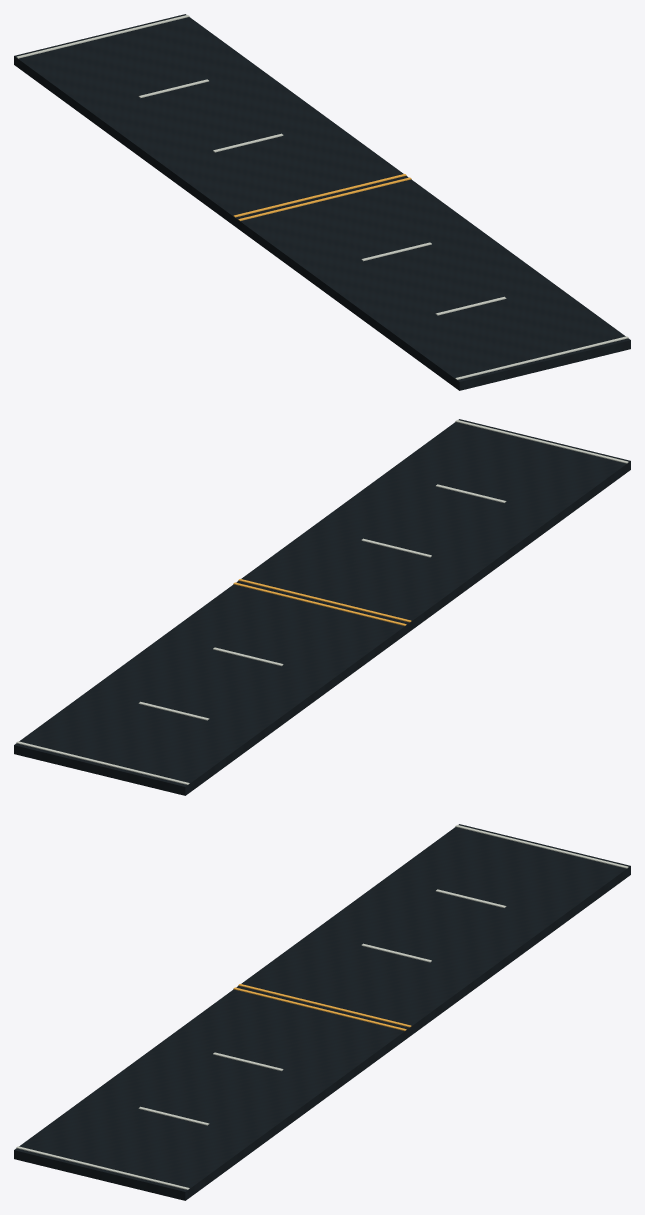
File: Road_6Lane_4m.glb
The picture shows the model from 3 angles, top to bottom: view 1: azimuth 30°, elevation 25°; view 2: azimuth 150°, elevation 25°; view 3: azimuth 330°, elevation 25°; orthographic projection.
Visible parts, largest first — view 1: Road_6Lane_4m_Lane_01, Road_6Lane_4m_Lane_02, Road_6Lane_4m_Lane_05, Road_6Lane_4m_Lane_04, Road_6Lane_4m_Lane_03, Road_6Lane_4m_Lane_06, Road_6Lane_4m_LaneMarkings, Road_6Lane_4m_EdgeMarkings; view 2: Road_6Lane_4m_Lane_06, Road_6Lane_4m_Lane_05, Road_6Lane_4m_Lane_02, Road_6Lane_4m_Lane_03, Road_6Lane_4m_Lane_04, Road_6Lane_4m_Lane_01, Road_6Lane_4m_LaneMarkings, Road_6Lane_4m_EdgeMarkings; view 3: Road_6Lane_4m_Lane_01, Road_6Lane_4m_Lane_02, Road_6Lane_4m_Lane_05, Road_6Lane_4m_Lane_04, Road_6Lane_4m_Lane_03, Road_6Lane_4m_Lane_06, Road_6Lane_4m_LaneMarkings, Road_6Lane_4m_EdgeMarkings.
Part boxes in pixels (x1,y1,x2,y2): Road_6Lane_4m_Lane_01: (385, 286, 630, 390); Road_6Lane_4m_Lane_02: (311, 231, 556, 336); Road_6Lane_4m_Lane_05: (88, 68, 333, 173); Road_6Lane_4m_Lane_04: (162, 123, 407, 227); Road_6Lane_4m_Lane_03: (236, 177, 481, 281); Road_6Lane_4m_Lane_06: (14, 14, 259, 118); Road_6Lane_4m_LaneMarkings: (138, 79, 506, 315); Road_6Lane_4m_EdgeMarkings: (16, 15, 628, 379); Road_6Lane_4m_Lane_06: (14, 691, 259, 795); Road_6Lane_4m_Lane_05: (88, 636, 333, 741); Road_6Lane_4m_Lane_02: (311, 473, 556, 578); Road_6Lane_4m_Lane_03: (237, 528, 482, 632); Road_6Lane_4m_Lane_04: (163, 582, 408, 686); Road_6Lane_4m_Lane_01: (385, 419, 630, 523); Road_6Lane_4m_LaneMarkings: (138, 484, 506, 720); Road_6Lane_4m_EdgeMarkings: (16, 420, 628, 784); Road_6Lane_4m_Lane_01: (14, 1096, 259, 1200); Road_6Lane_4m_Lane_02: (88, 1041, 333, 1146); Road_6Lane_4m_Lane_05: (311, 878, 556, 983); Road_6Lane_4m_Lane_04: (237, 933, 482, 1037); Road_6Lane_4m_Lane_03: (163, 987, 408, 1091); Road_6Lane_4m_Lane_06: (385, 824, 630, 928); Road_6Lane_4m_LaneMarkings: (138, 889, 506, 1125); Road_6Lane_4m_EdgeMarkings: (16, 825, 628, 1189).
Bounding box in the file's own units: 4 × 0.221 × 18.
Materials: 3 (1 with a texture image).
